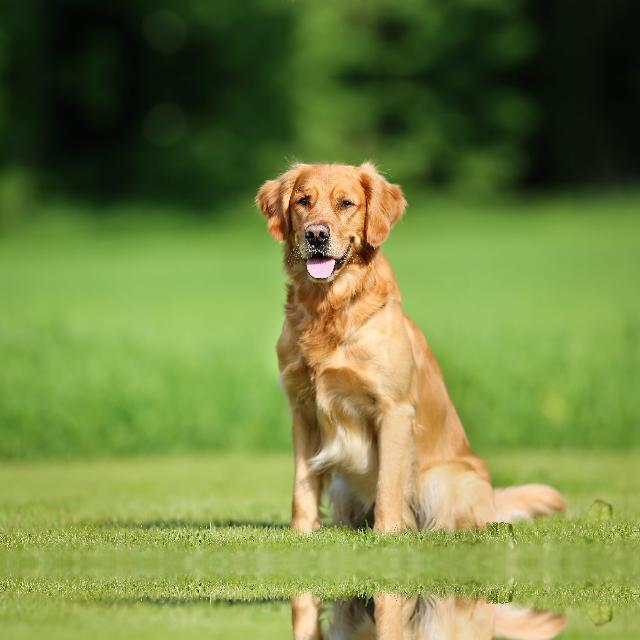dog: (255, 149, 567, 531), (255, 593, 567, 640), (255, 0, 567, 5)
